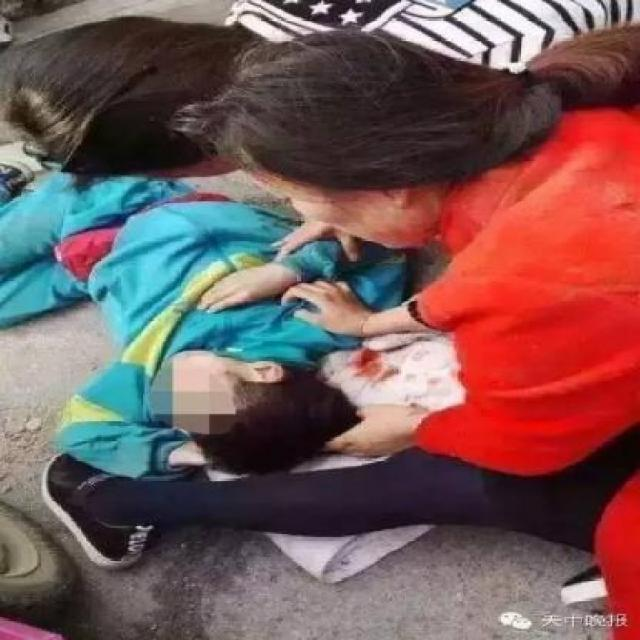fall: (0, 133, 391, 512)
